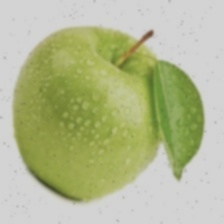apple: (15, 39, 166, 221)
